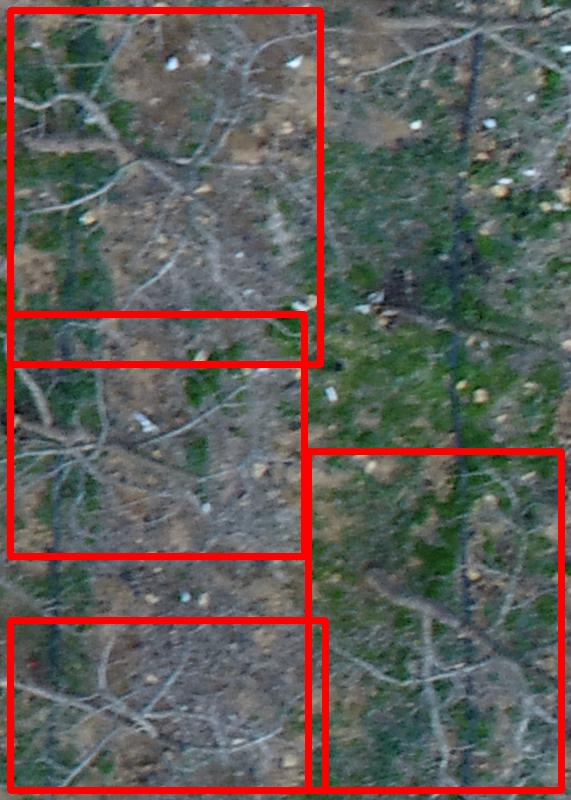apple: (10, 10, 320, 364), (308, 451, 561, 790), (10, 314, 304, 556), (10, 620, 325, 790)
